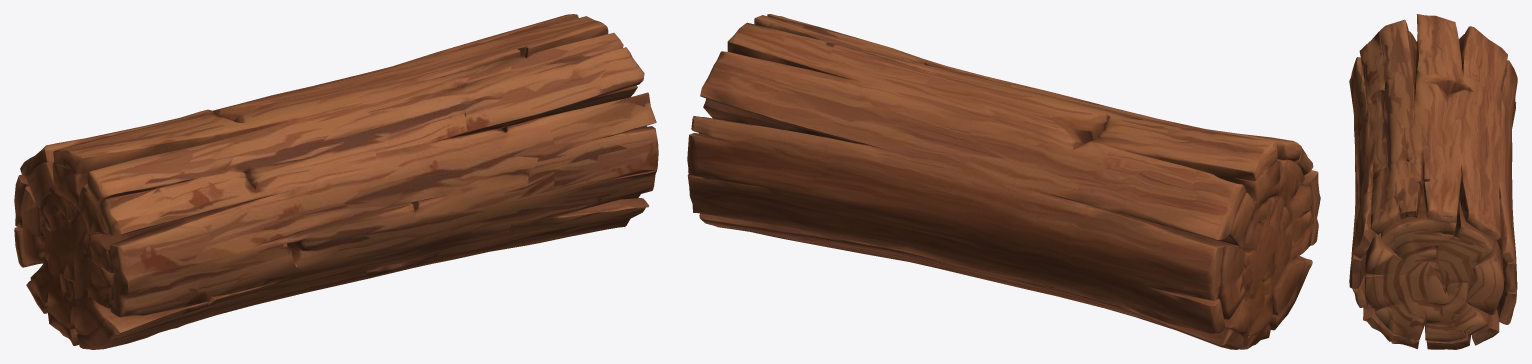
The model's file is mat_log_b_idle.glb.
3 renders of one model, left to right at view 1: azimuth 30°, elevation 25°; view 2: azimuth 150°, elevation 25°; view 3: azimuth 270°, elevation 25°, orthographic. The views are drawn at different scales.
Visible parts, largest first — view 1: tripo_node_eeddd490-c199-4810-b951-38108381fa60; view 2: tripo_node_eeddd490-c199-4810-b951-38108381fa60; view 3: tripo_node_eeddd490-c199-4810-b951-38108381fa60.
Part boxes in pixels (x1,y1,x2,y2): tripo_node_eeddd490-c199-4810-b951-38108381fa60: (14, 14, 658, 349); tripo_node_eeddd490-c199-4810-b951-38108381fa60: (687, 14, 1320, 349); tripo_node_eeddd490-c199-4810-b951-38108381fa60: (1349, 14, 1517, 349).
Bounding box in the file's own units: 1 × 0.3438 × 0.3626.
Materials: 1 (1 with a texture image).
